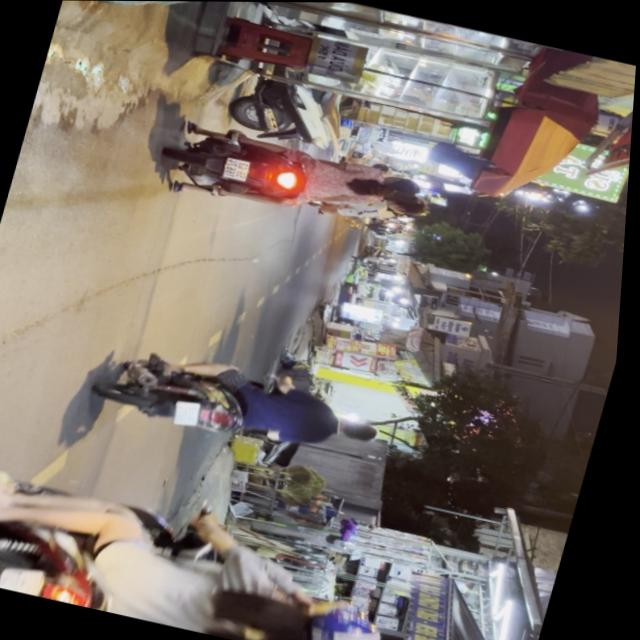helmet: (296, 597, 398, 640)
licenseplate: (0, 450, 424, 640), (91, 337, 399, 471), (152, 114, 448, 247)
motorcyclist: (384, 188, 435, 220), (338, 416, 388, 448), (382, 173, 429, 200)
nohelmet: (5, 565, 53, 596), (178, 400, 207, 428), (224, 157, 253, 182)
